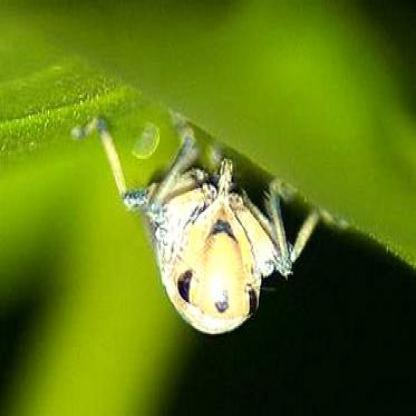green-leafhopper: (112, 101, 315, 337)
